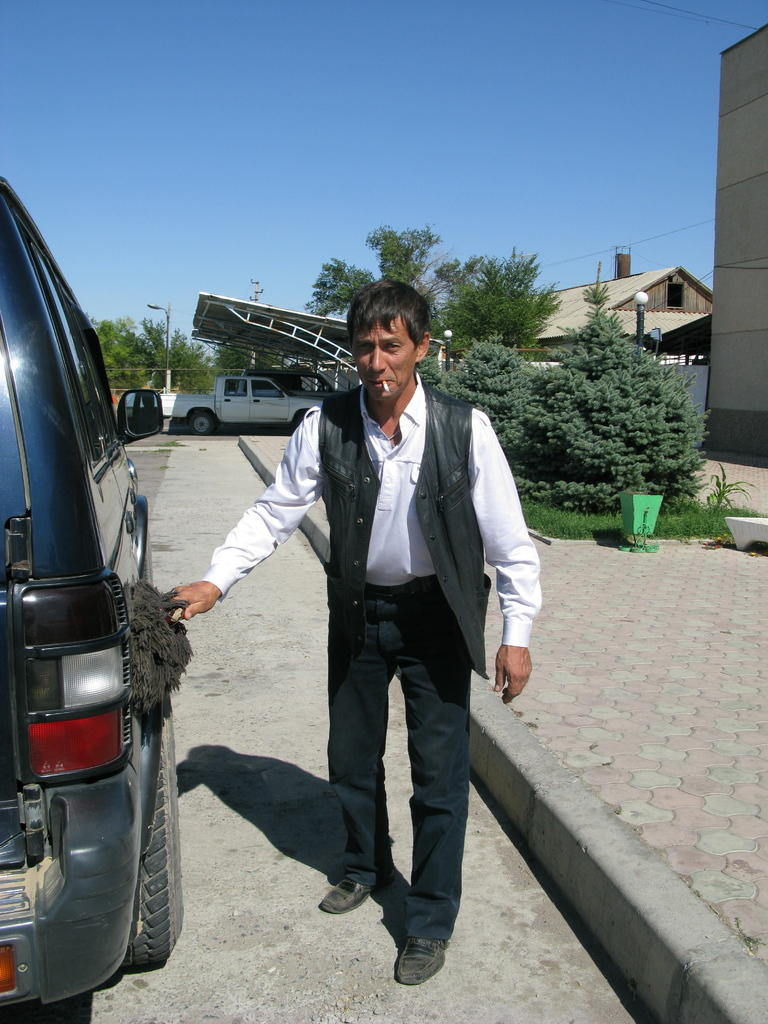Car: (0, 182, 190, 1023)
